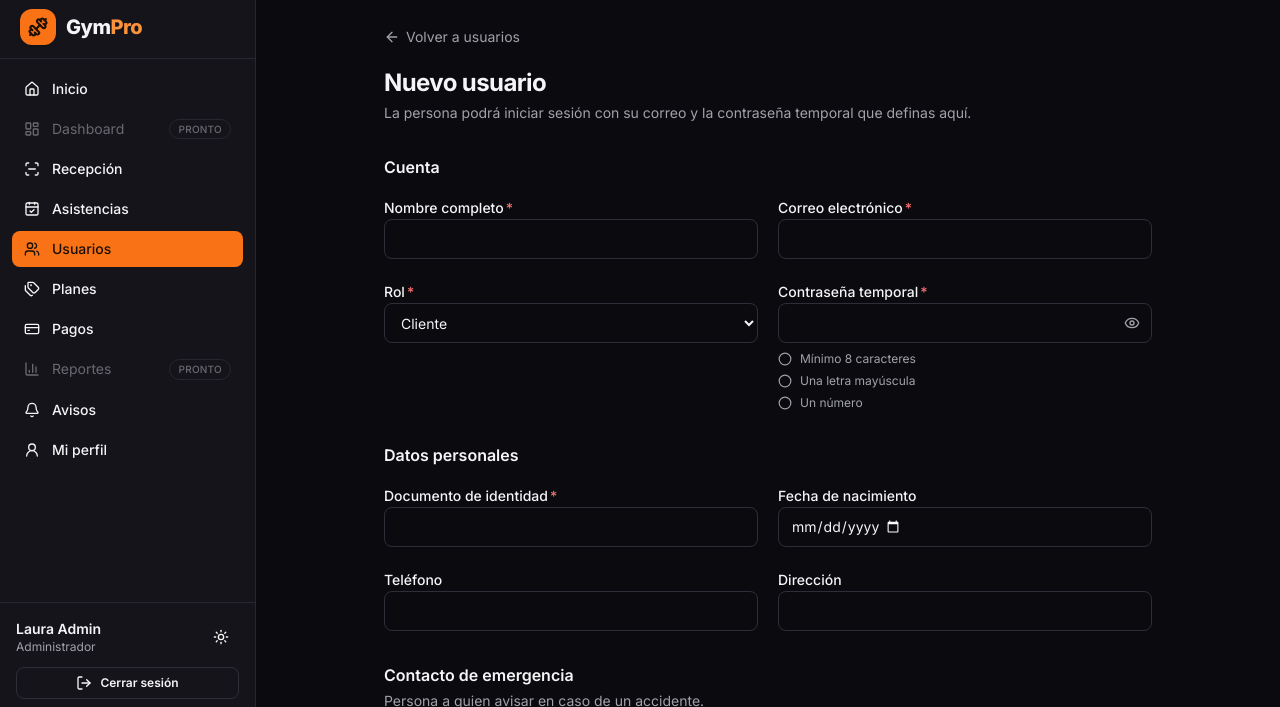
Test: Nuevo usuario › crea un cliente con todos sus datos y muestra su código
Expected: the heading "Nuevo usuario" is shown, top-left (384, 68), bottom-right (546, 97)
Type "Ana Gómez" into the field labelled "Nombre completo*" at (571, 239), box top-left (384, 219), bottom-right (758, 259)
Type "  ANA@gympro.com " into the field labelled "Correo electrónico*" at (965, 239), box top-left (778, 219), bottom-right (1152, 259)
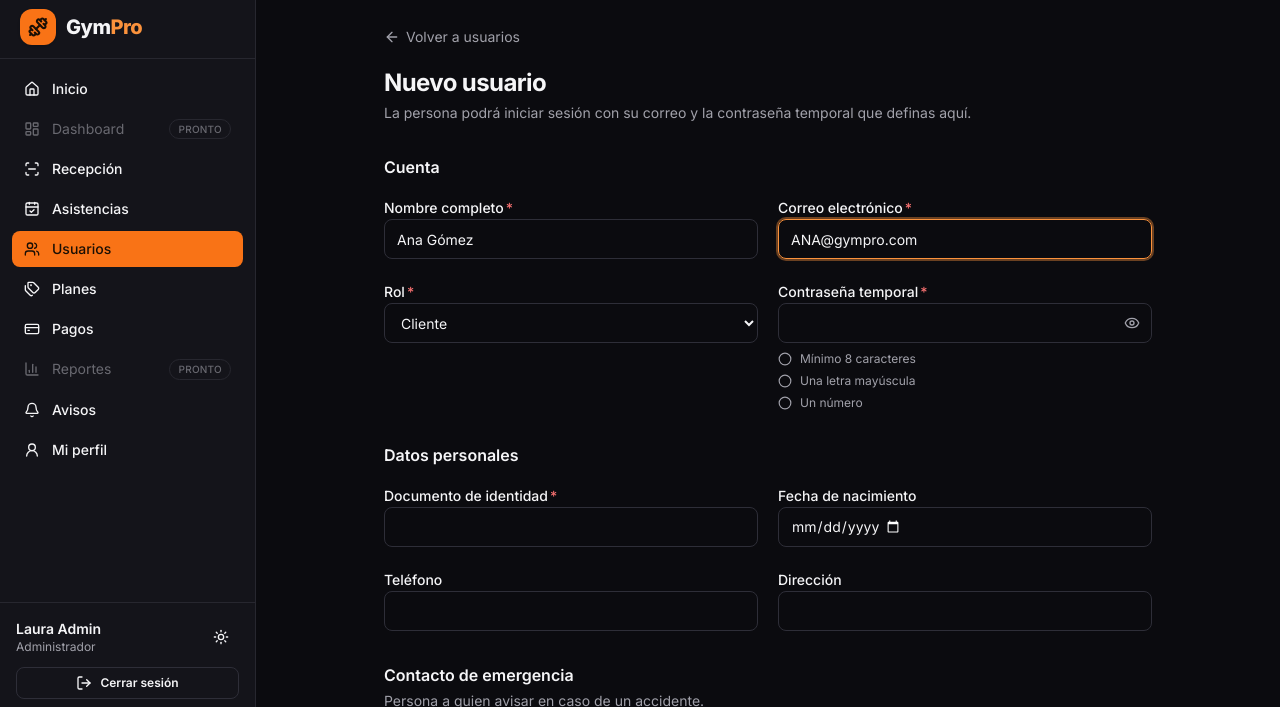
Type "Temporal123" into the password field labelled "Contraseña temporal*" at (965, 323), box top-left (778, 303), bottom-right (1152, 343)
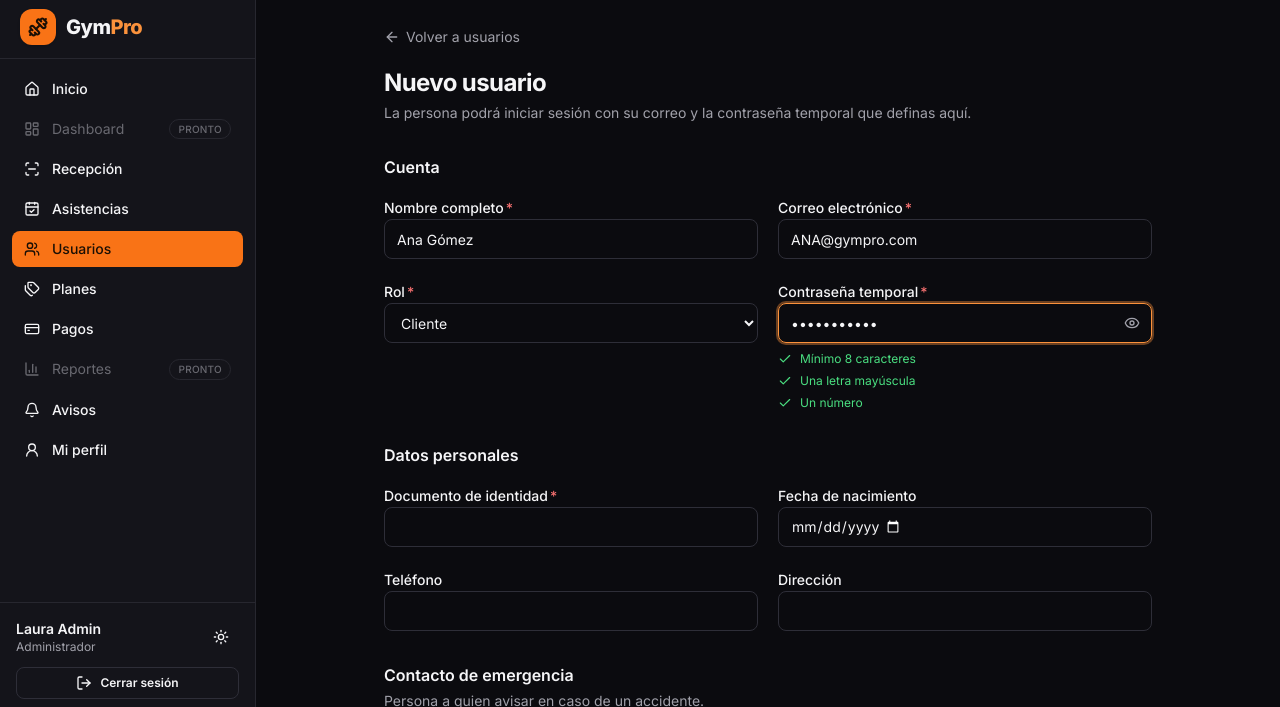
Type "1010" into the field labelled "Documento de identidad*" at (571, 527), box top-left (384, 507), bottom-right (758, 547)
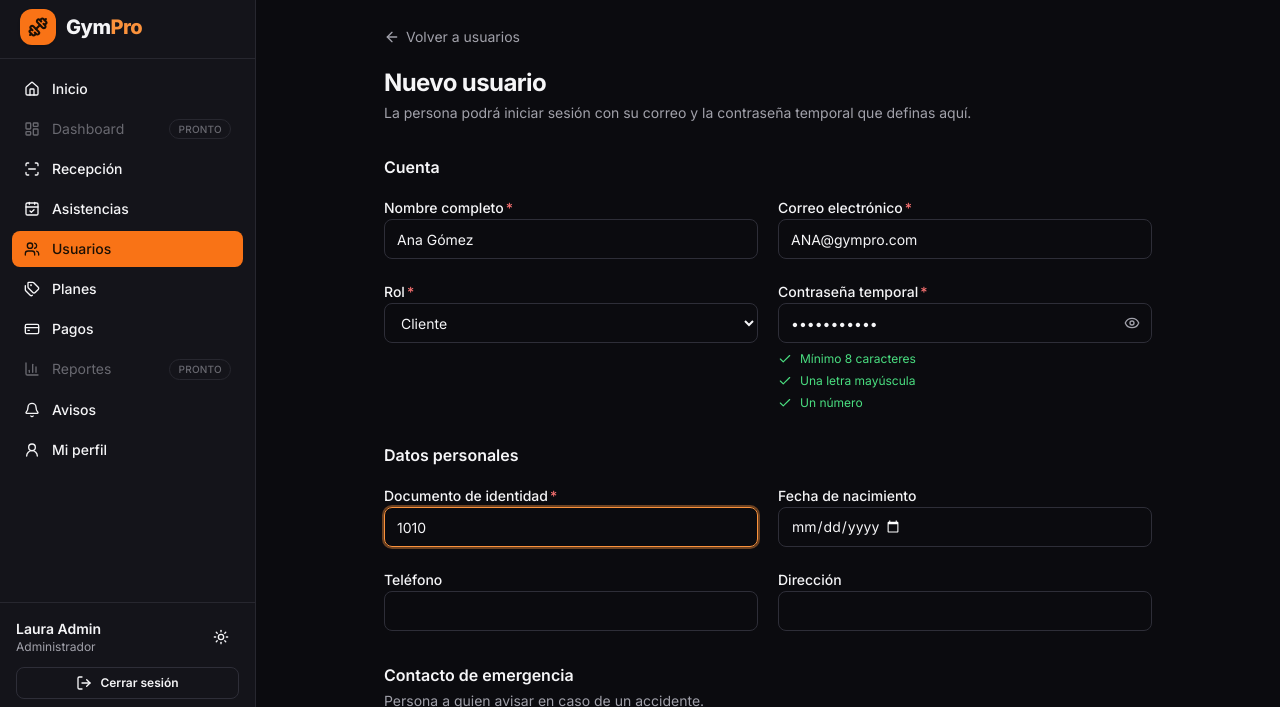
Type "3001112233" into the field labelled "Teléfono" at (571, 611), box top-left (384, 591), bottom-right (758, 631)
(page scrolled)
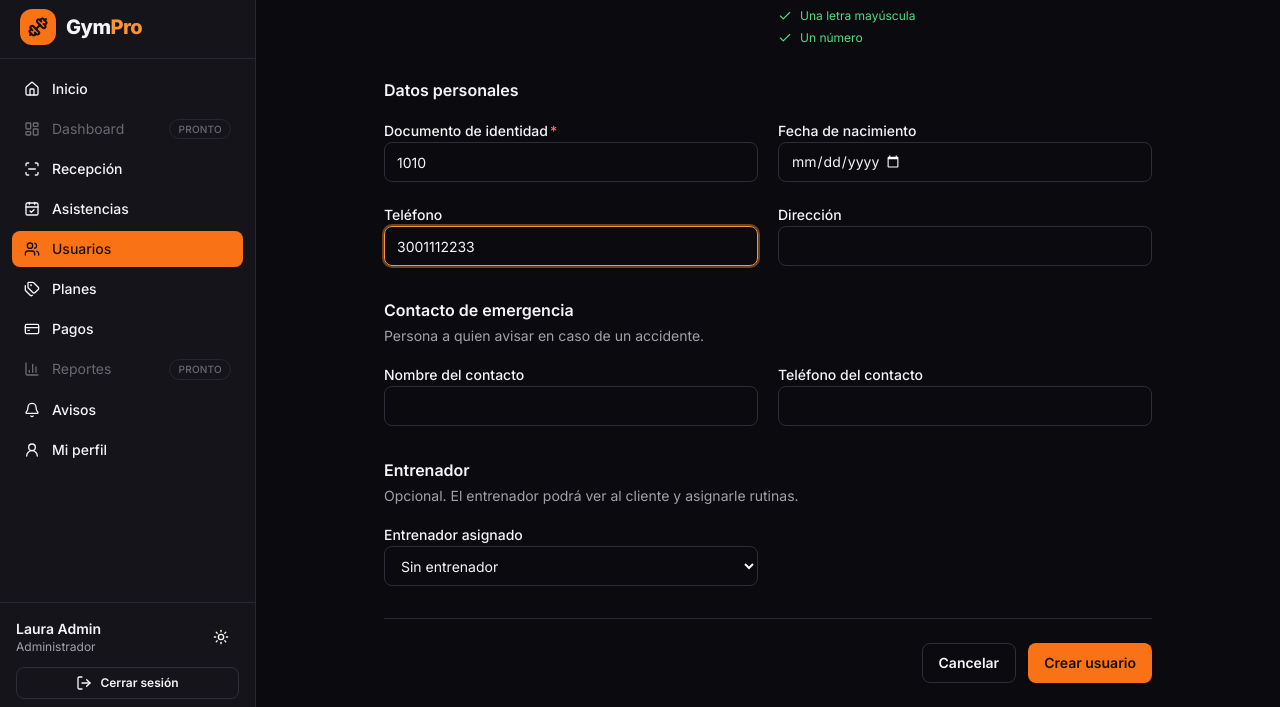
Select "Carlos Coach" in the dropdown labelled "Entrenador asignado" at (571, 566), box top-left (384, 546), bottom-right (758, 586)
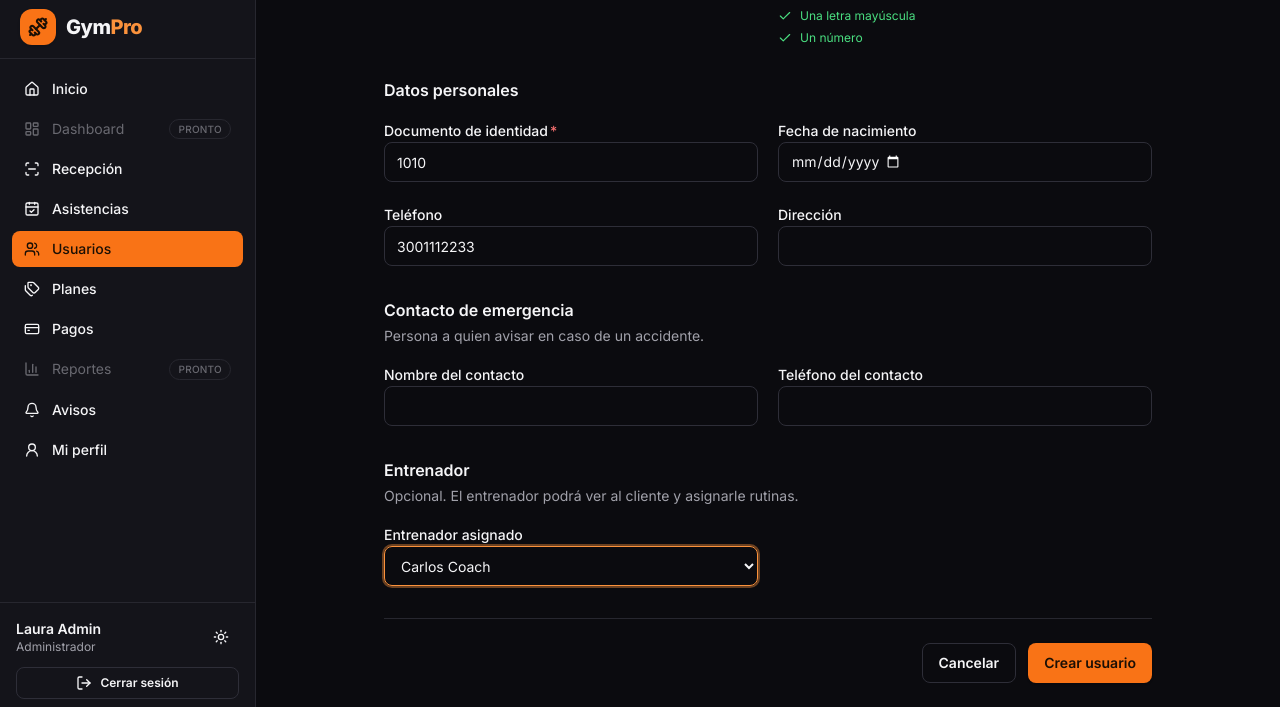
Click the button "Crear usuario" at (1090, 663), box top-left (1028, 643), bottom-right (1152, 683)
(page scrolled)
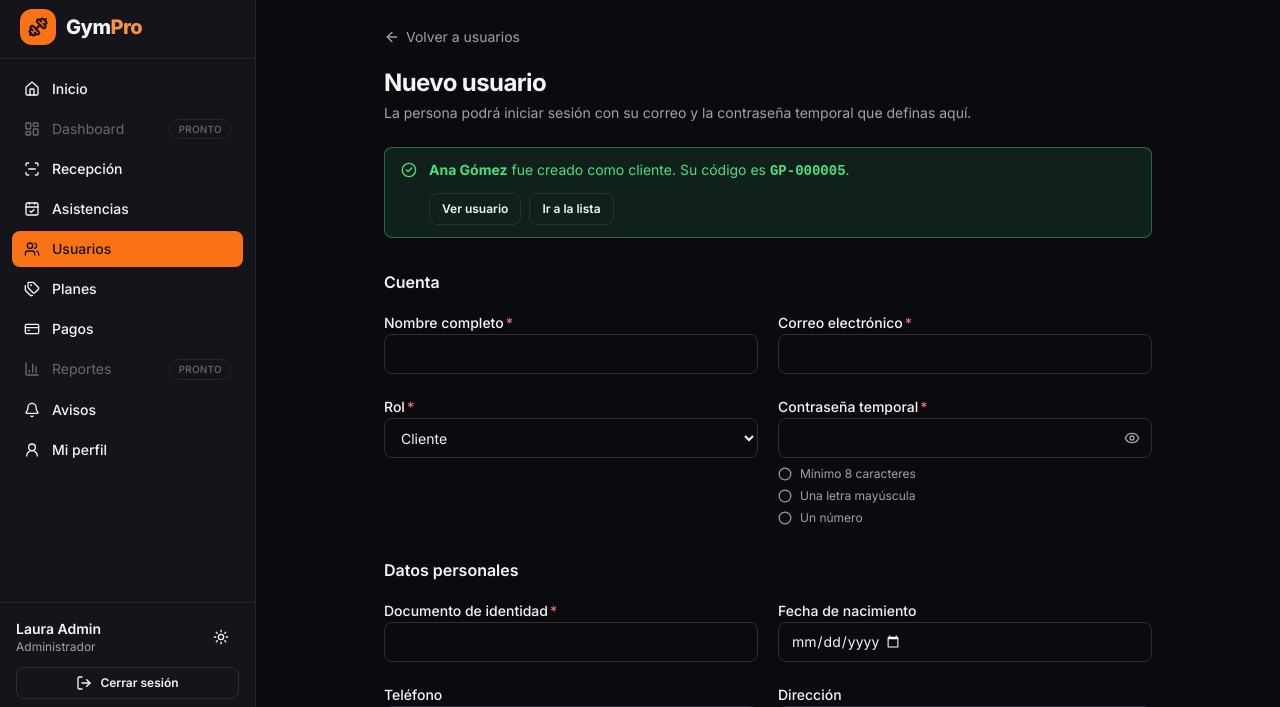
Result: the text "Ana Gómez fue creado como cliente. Su código es GP-000005." is shown at top-left (429, 160), bottom-right (850, 181)
Result: the text "GP-000005" is shown at top-left (770, 163), bottom-right (846, 179)
